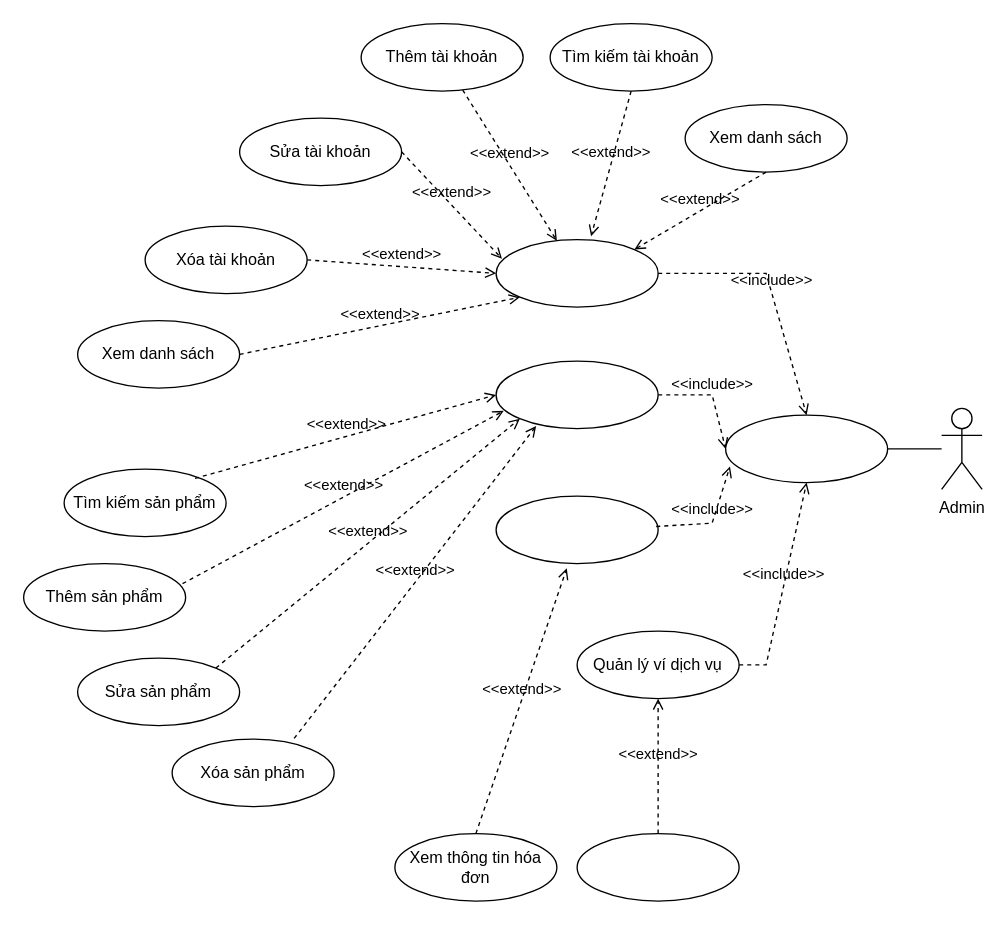
The diagram is 1008 pixels wide and 925 high, and some of its shapes have lost their labels. The box of each missing label's shape, as (x1, y1, x2, y2) in pixels:
Quản lý hóa đơn: (495, 495, 658, 564)
Quản lý sản phẩm: (495, 360, 658, 429)
Quản lý tài khoản: (495, 238, 658, 307)
Xem tổng tiền các phương thức: (576, 832, 739, 901)
Đăng nhập: (724, 414, 888, 483)
